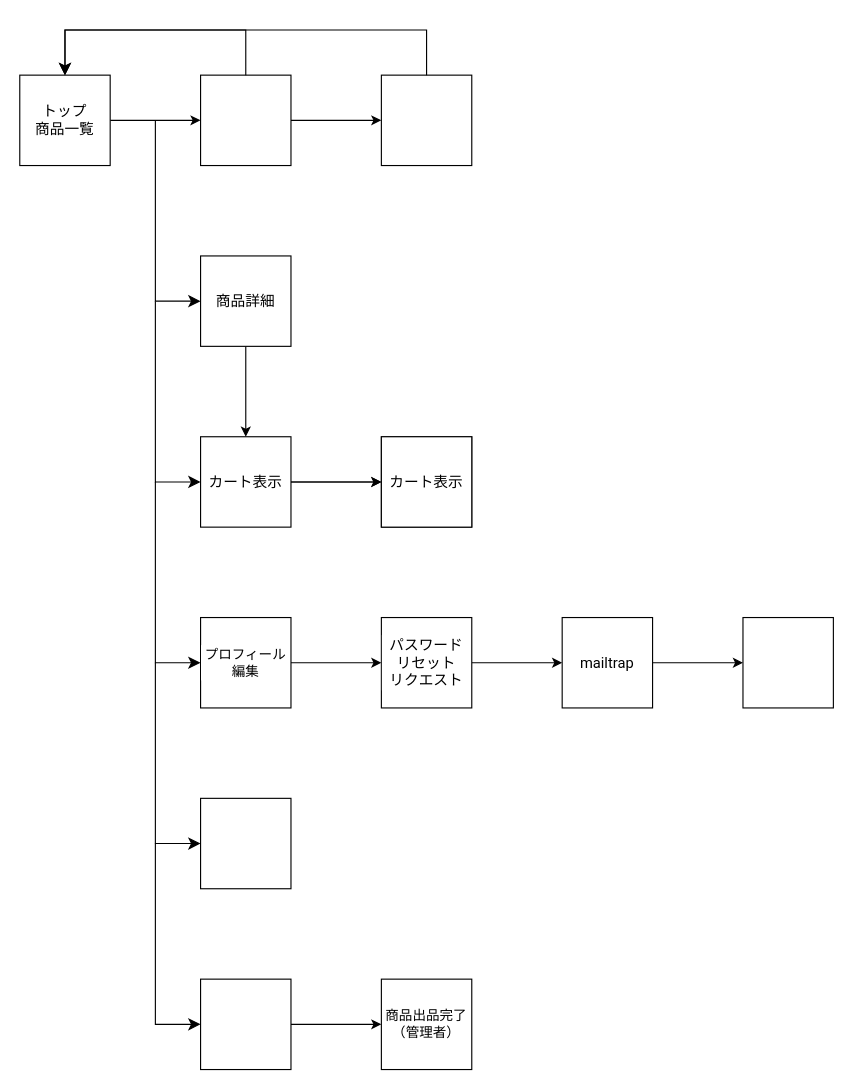
Some shapes in this 853 by 1089 pixel diagram are drawn without their labels. Each missing label, with the centre of its shape:
"パスワードリセット" goes at pixel 787 662.
"ログイン" goes at pixel 245 120.
"会員登録" goes at pixel 426 120.
"商品出品 （管理者）" goes at pixel 245 1024.
"購入履歴 一覧" goes at pixel 245 843.
